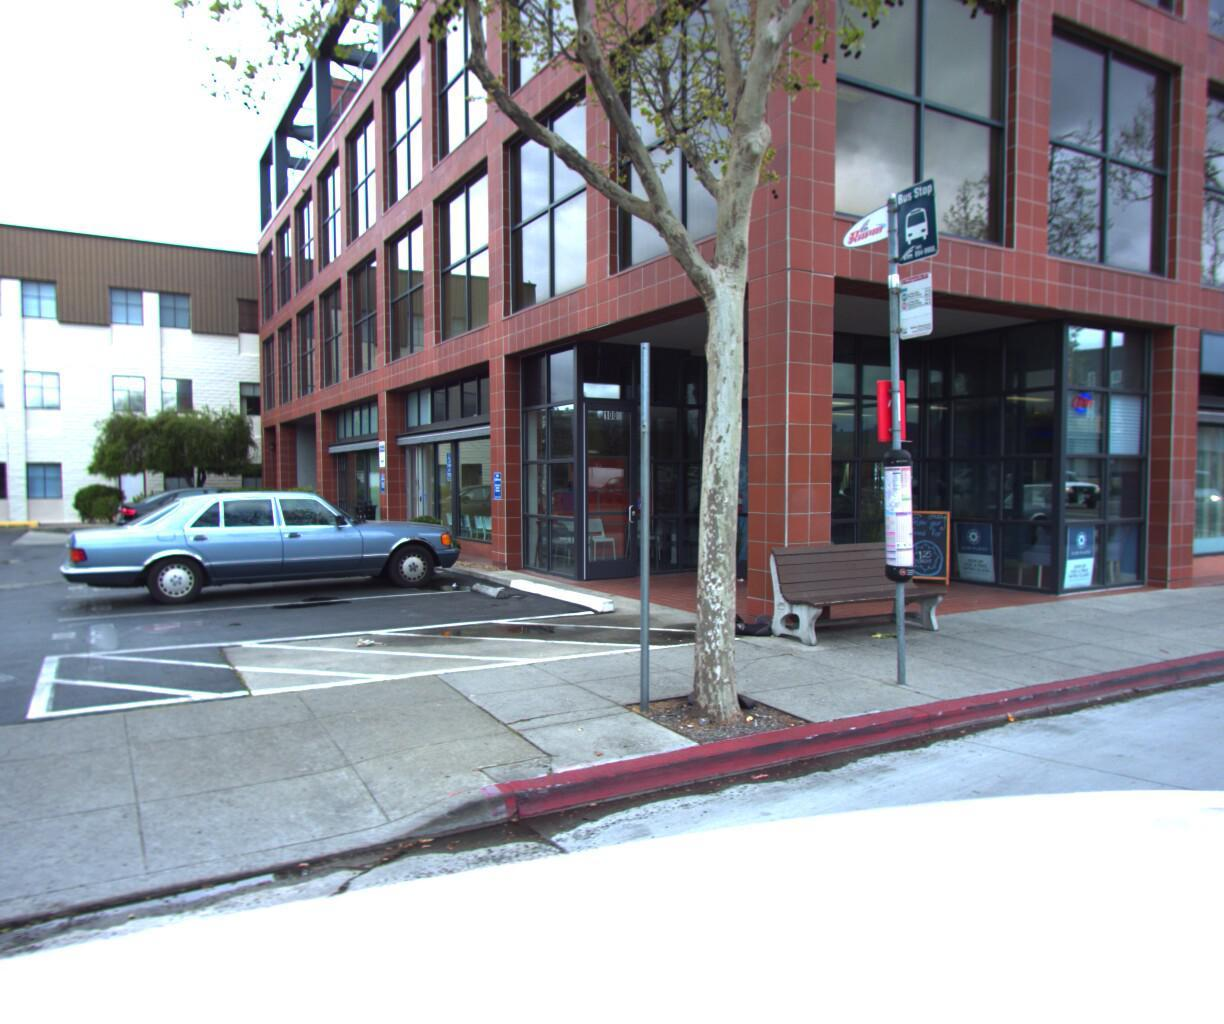car: (54, 487, 484, 635)
